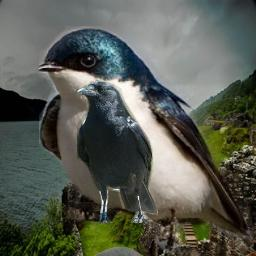Crow: (77, 80, 158, 223)
Swallow: (39, 26, 254, 254)
